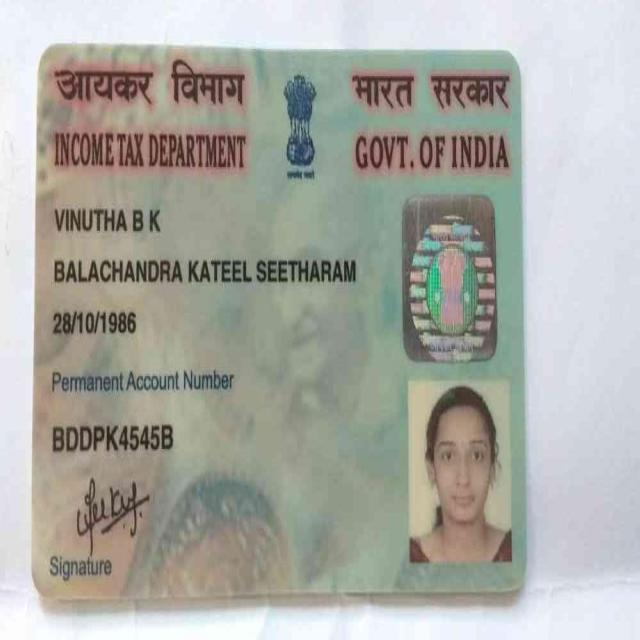pan_card: (38, 52, 522, 593)
